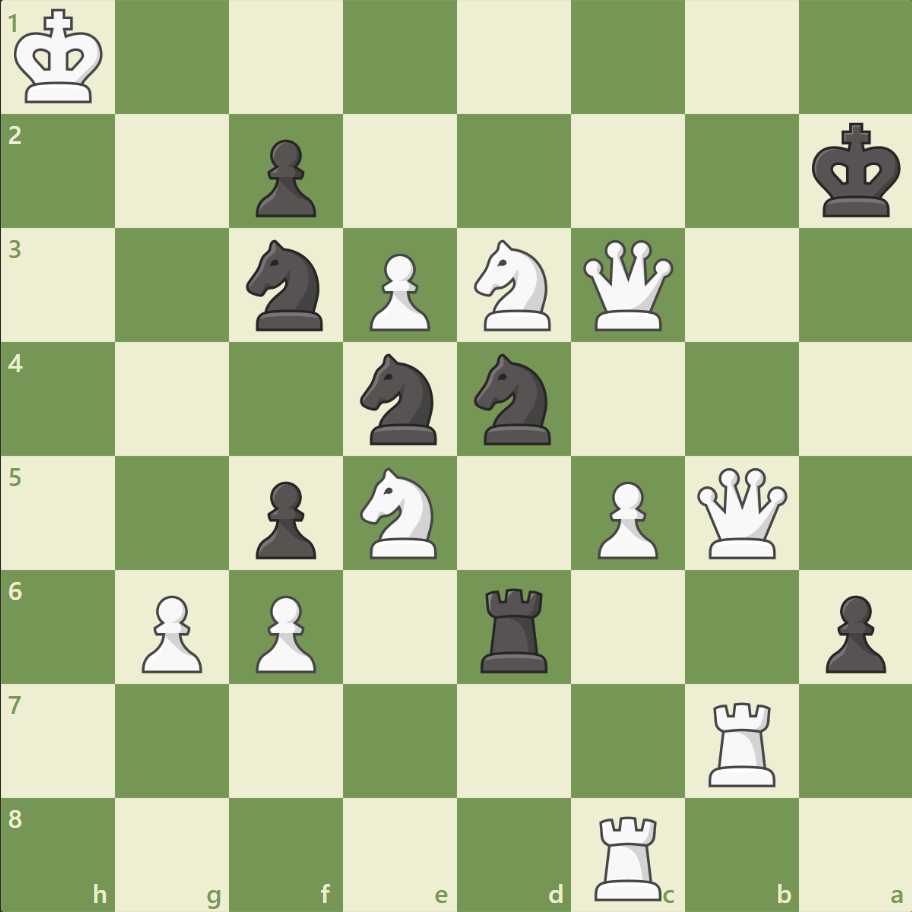K: (11, 4, 111, 112)
N: (351, 461, 449, 564), (465, 234, 562, 337)
P: (247, 586, 322, 677), (133, 586, 208, 677), (588, 473, 662, 564), (361, 246, 435, 337)
Q: (691, 463, 790, 562), (578, 236, 677, 335)
R: (587, 806, 670, 904), (700, 693, 783, 790)
k: (806, 117, 906, 225)
n: (351, 348, 449, 450), (238, 234, 335, 337), (465, 348, 562, 450)
p: (247, 473, 322, 564), (247, 132, 322, 223), (815, 586, 889, 677)
r: (473, 579, 556, 676)
